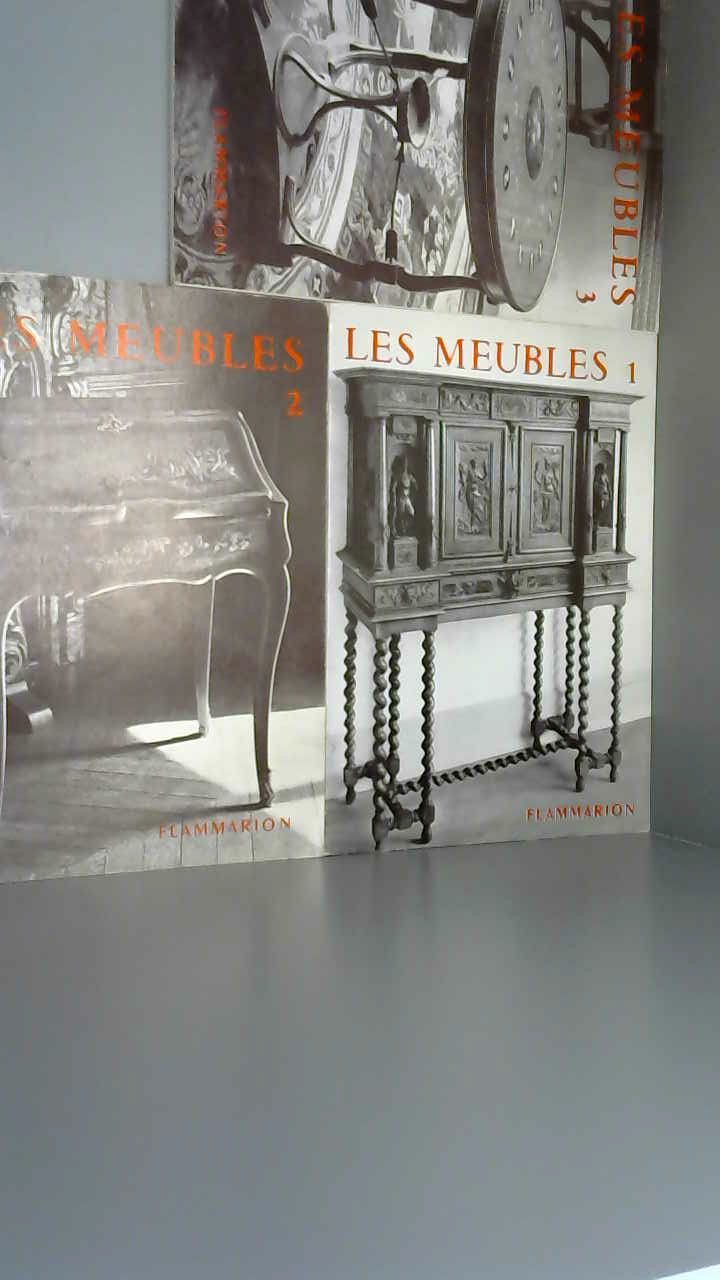book: (0, 0, 702, 895)
